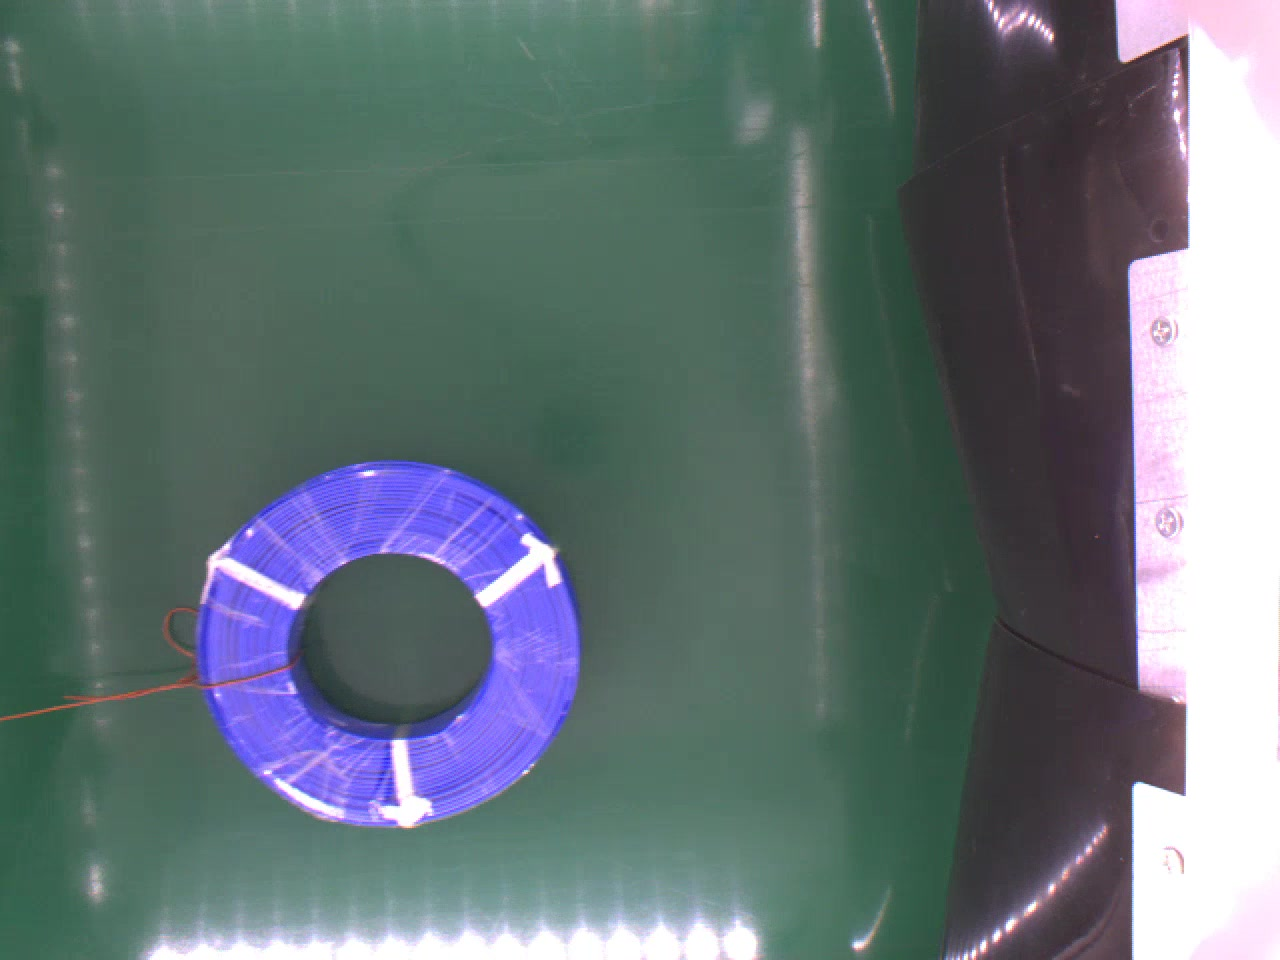blue: (189, 456, 582, 828)
